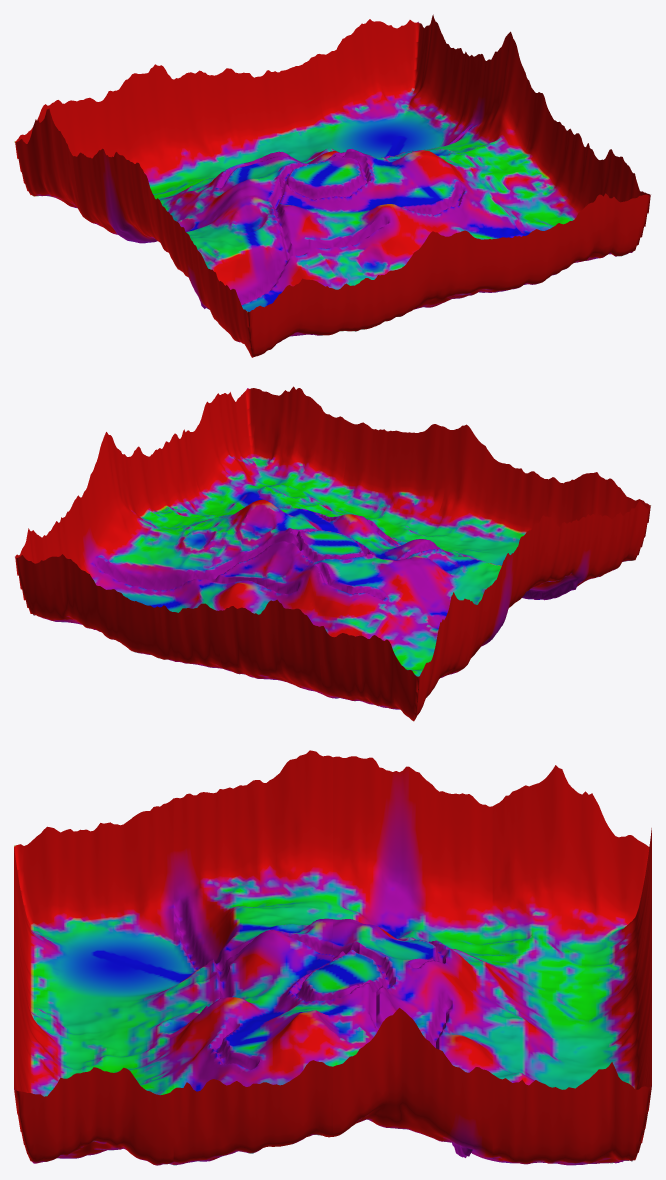
Rendered from terrain_ridgeline.glb.
The picture shows the model from 3 angles, top to bottom: view 1: azimuth 30°, elevation 25°; view 2: azimuth 150°, elevation 25°; view 3: azimuth 270°, elevation 25°; orthographic projection. The views are drawn at different scales.
Parts seen in each view (by area): view 1: terrain_3_3, terrain_1_3, terrain_3_1, terrain_1_1, terrain_2_3, terrain_2_1, terrain_0_1, terrain_0_0, terrain_3_0, terrain_0_3, terrain_3_2, terrain_1_0 (+4 smaller); view 2: terrain_3_0, terrain_3_2, terrain_2_0, terrain_1_0, terrain_0_3, terrain_1_2, terrain_2_2, terrain_1_3, terrain_3_3, terrain_0_2, terrain_0_0, terrain_0_1 (+4 smaller); view 3: terrain_0_3, terrain_0_1, terrain_0_2, terrain_0_0, terrain_3_2, terrain_3_1, terrain_3_3, terrain_3_0, terrain_2_1, terrain_1_3, terrain_1_0, terrain_1_1 (+4 smaller).
Boxes of the visible parts, x1,y1,x2,y2 form: terrain_3_3: [317, 14, 476, 158]; terrain_1_3: [115, 64, 236, 199]; terrain_3_1: [445, 92, 593, 237]; terrain_1_1: [232, 175, 391, 290]; terrain_2_3: [216, 54, 364, 164]; terrain_2_1: [333, 150, 491, 261]; terrain_0_1: [130, 162, 282, 309]; terrain_0_0: [189, 236, 348, 357]; terrain_3_0: [493, 149, 650, 280]; terrain_0_3: [14, 90, 172, 217]; terrain_3_2: [393, 31, 535, 163]; terrain_1_0: [315, 231, 449, 331]; terrain_3_0: [189, 386, 348, 508]; terrain_3_2: [72, 432, 231, 610]; terrain_2_0: [299, 422, 449, 541]; terrain_1_0: [395, 424, 550, 565]; terrain_0_3: [317, 592, 476, 721]; terrain_1_2: [283, 539, 433, 638]; terrain_2_2: [174, 516, 332, 614]; terrain_1_3: [216, 599, 352, 697]; terrain_3_3: [15, 506, 172, 642]; terrain_0_2: [381, 526, 535, 669]; terrain_0_0: [547, 472, 650, 586]; terrain_0_1: [434, 514, 593, 600]; terrain_0_3: [492, 765, 651, 993]; terrain_0_1: [173, 750, 332, 985]; terrain_0_2: [333, 756, 492, 964]; terrain_0_0: [14, 798, 173, 987]; terrain_3_2: [333, 1008, 492, 1160]; terrain_3_1: [173, 1047, 332, 1165]; terrain_3_3: [492, 1031, 651, 1165]; terrain_3_0: [14, 1036, 173, 1165]; terrain_2_1: [173, 977, 332, 1091]; terrain_1_3: [492, 874, 651, 1059]; terrain_1_0: [14, 911, 173, 1059]; terrain_1_1: [173, 918, 332, 1036].
Size of the model in its own units: 192 by 63.02 by 192.
